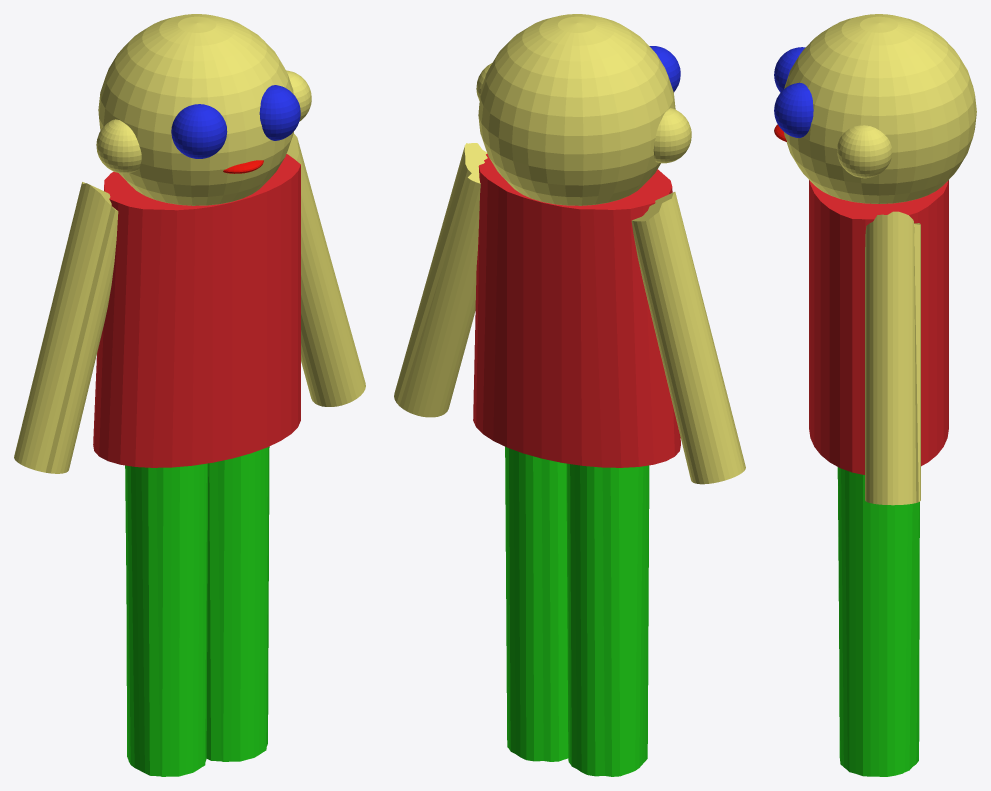
Rendered from PlayerMr.fbx.
3 views of the same model, side by side, from view 1: azimuth 30°, elevation 25°; view 2: azimuth 150°, elevation 25°; view 3: azimuth 270°, elevation 25° (orthographic).
Visible parts, largest first — view 1: Cylinder, Cylinder.003, Sphere, Cylinder.002, Cylinder.004, Cylinder.001, Sphere.002, Sphere.004, Sphere.001, Sphere.005; view 2: Cylinder, Sphere, Cylinder.003, Cylinder.002, Cylinder.004, Cylinder.001, Sphere.004, Sphere.002; view 3: Sphere, Cylinder, Cylinder.002, Cylinder.001, Sphere.005, Sphere.001, Sphere.002.
Boxes of the visible parts, bbox=[...] form: Cylinder: bbox=[93, 154, 300, 467]; Cylinder.003: bbox=[125, 463, 208, 776]; Sphere: bbox=[98, 14, 293, 205]; Cylinder.002: bbox=[206, 446, 269, 761]; Cylinder.004: bbox=[14, 182, 118, 473]; Cylinder.001: bbox=[286, 133, 365, 406]; Sphere.002: bbox=[171, 104, 227, 158]; Sphere.004: bbox=[96, 119, 141, 173]; Sphere.001: bbox=[259, 85, 300, 140]; Sphere.005: bbox=[286, 70, 311, 121]; Cylinder: bbox=[473, 153, 680, 467]; Sphere: bbox=[478, 14, 675, 205]; Cylinder.003: bbox=[566, 463, 649, 776]; Cylinder.002: bbox=[505, 446, 568, 761]; Cylinder.004: bbox=[631, 192, 745, 484]; Cylinder.001: bbox=[394, 143, 487, 417]; Sphere.004: bbox=[653, 108, 691, 163]; Sphere.002: bbox=[649, 46, 680, 92]; Sphere: bbox=[784, 14, 976, 203]; Cylinder: bbox=[809, 180, 948, 474]; Cylinder.002: bbox=[837, 467, 919, 776]; Cylinder.001: bbox=[865, 211, 920, 505]; Sphere.005: bbox=[837, 125, 892, 178]; Sphere.001: bbox=[774, 82, 813, 138]; Sphere.002: bbox=[774, 47, 805, 92].
Bounding box in the file's own units: 281 × 570 × 145.
